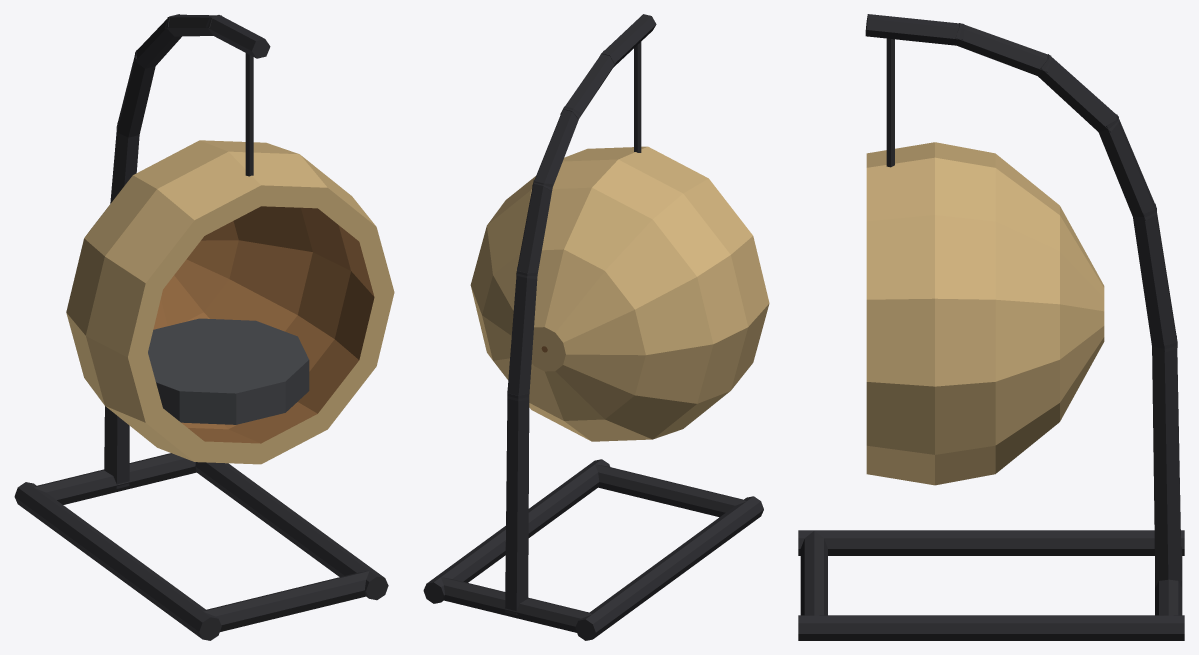
File: FN_Chair_Hanging_Egg.obj
3 renders of one model, left to right at view 1: azimuth 30°, elevation 25°; view 2: azimuth 150°, elevation 25°; view 3: azimuth 270°, elevation 25°, orthographic. The views are drawn at different scales.
Parts seen in each view (by area): view 1: FN_Chair_Hanging_Egg; view 2: FN_Chair_Hanging_Egg; view 3: FN_Chair_Hanging_Egg.
Boxes of the visible parts, <box> form: FN_Chair_Hanging_Egg: <box>14,14,394,640</box>; FN_Chair_Hanging_Egg: <box>423,14,769,640</box>; FN_Chair_Hanging_Egg: <box>798,14,1184,640</box>.
Size of the model in its own units: 0.856 by 1.59 by 0.96.
1 material, 1 textured.
